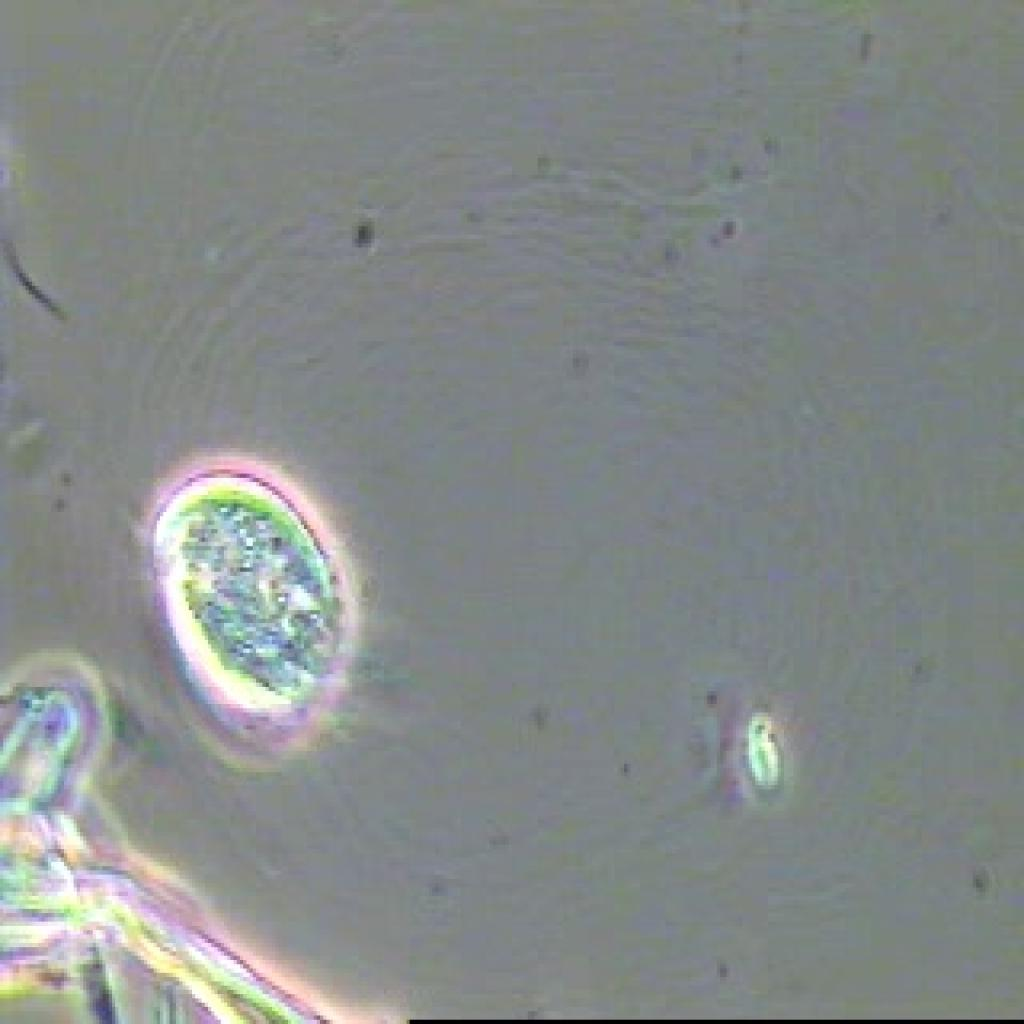Aspidisca: (120, 429, 443, 787)
